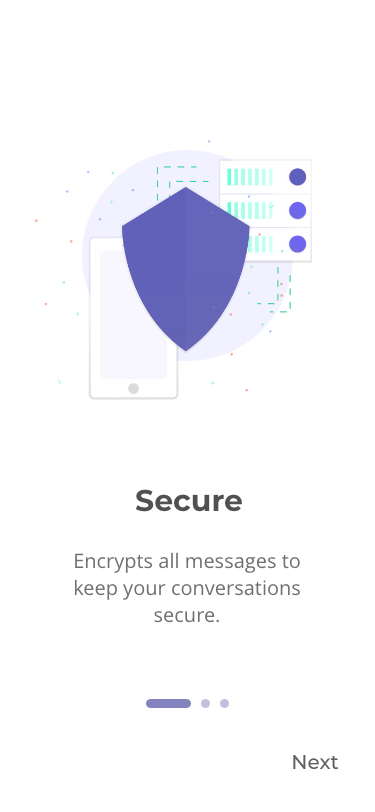Image: (34, 140, 314, 401)
PageIndicator: (146, 698, 231, 709)
Text: (75, 552, 301, 623), (136, 489, 243, 513), (292, 754, 339, 770)
